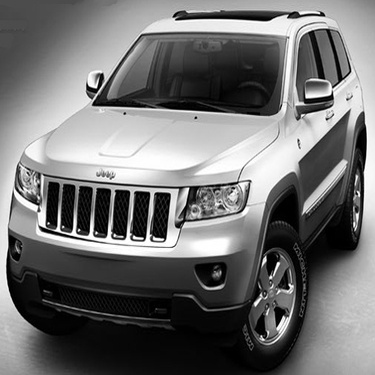car: (8, 1, 363, 352)
